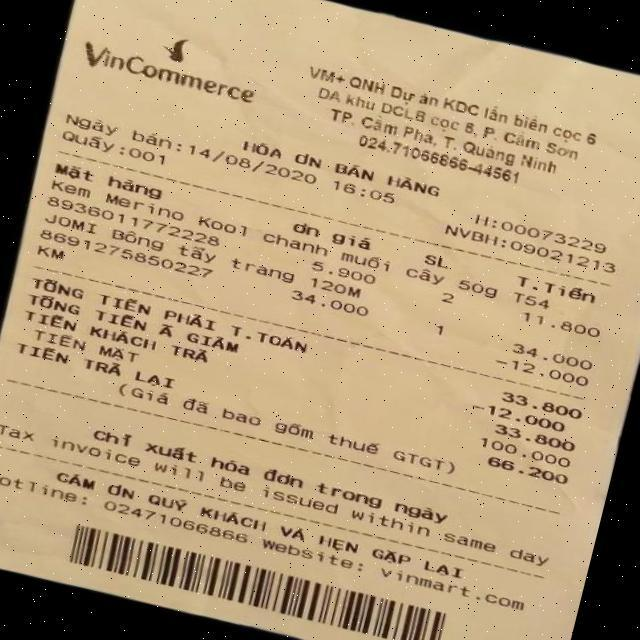Date: (186, 139, 325, 192)
Store_Name: (53, 0, 278, 116)
amount_number: (493, 380, 590, 427)
label_total: (29, 271, 318, 360)
